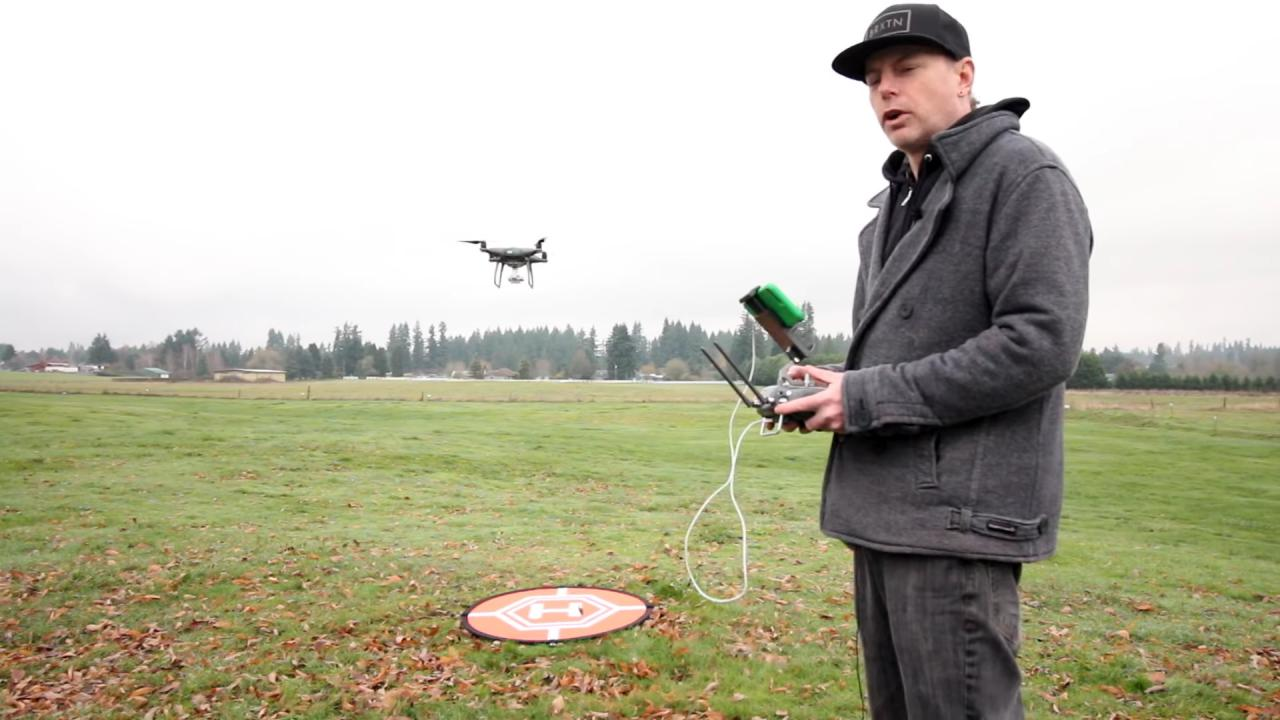Drone: (449, 229, 574, 299)
